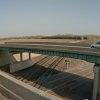Bridge: (1, 25, 100, 71)
